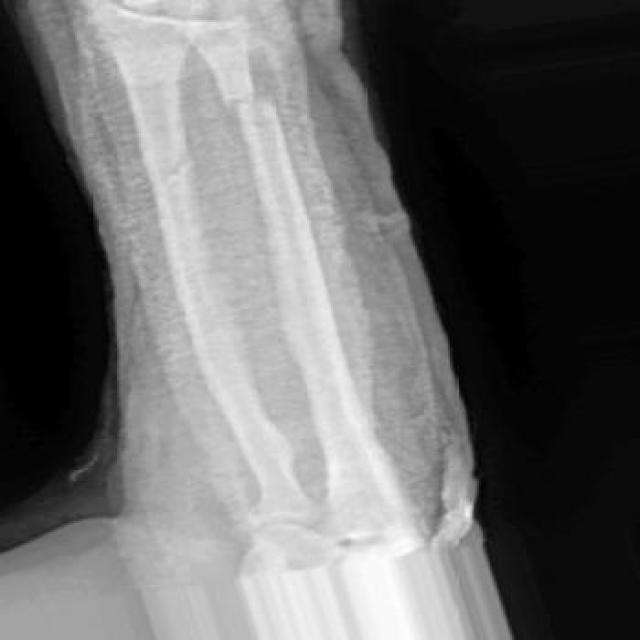Fracture: (148, 135, 205, 190), (223, 74, 282, 118)
